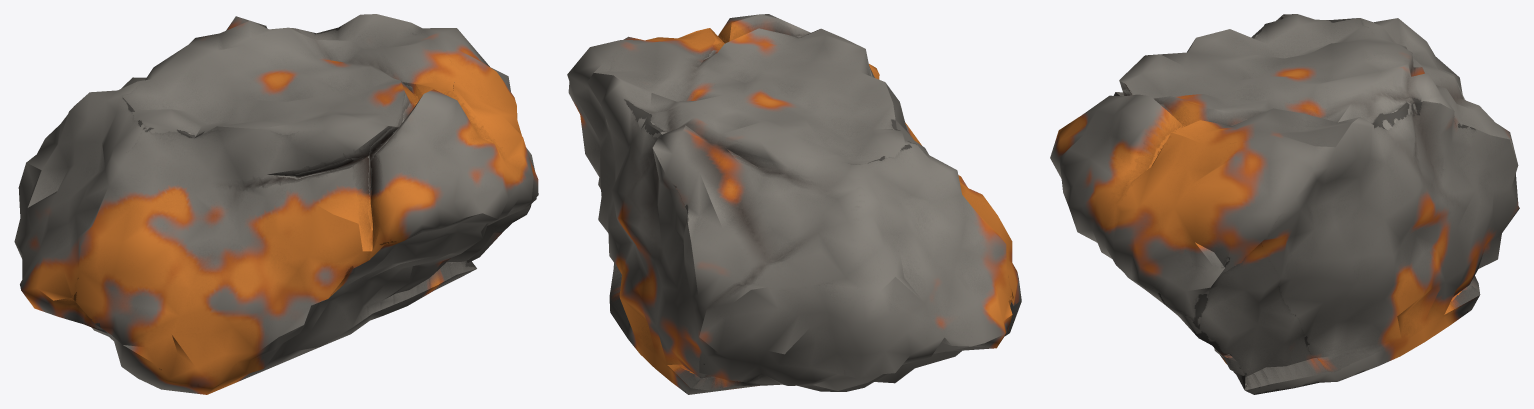
File: roca_oxidada.fbx
3 views of the same model, side by side, from view 1: azimuth 30°, elevation 25°; view 2: azimuth 150°, elevation 25°; view 3: azimuth 270°, elevation 25° (orthographic). The views are drawn at different scales.
Visible parts, largest first — view 1: roca_oxidada; view 2: roca_oxidada; view 3: roca_oxidada.
Part boxes in pixels (bbox=[...]): roca_oxidada: bbox=[14, 14, 538, 394]; roca_oxidada: bbox=[567, 14, 1021, 394]; roca_oxidada: bbox=[1050, 14, 1519, 394].
Bounding box in the file's own units: 2.44 × 1.27 × 2.06.
1 material, 1 textured.
